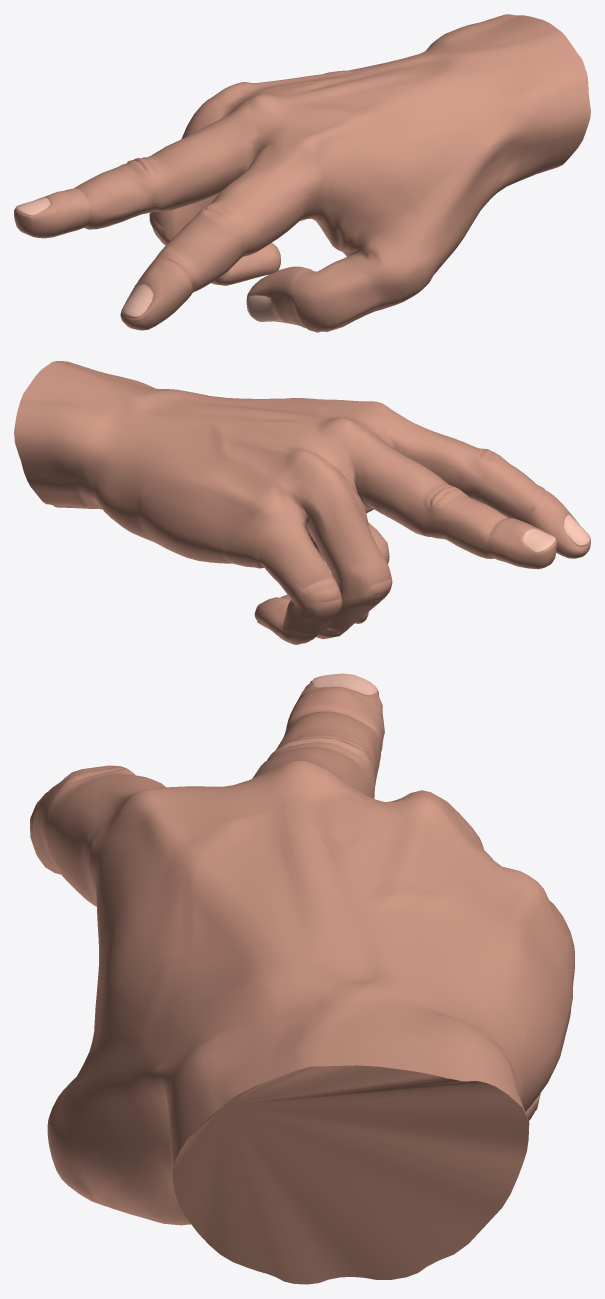
File: hand_25.obj
3 renders of one model, top to bottom at view 1: azimuth 30°, elevation 25°; view 2: azimuth 150°, elevation 25°; view 3: azimuth 270°, elevation 25°, orthographic. The views are drawn at different scales.
Visible parts, largest first — view 1: Figure_2; view 2: Figure_2; view 3: Figure_2.
Boxes of the visible parts, left/top/right/bottom form: Figure_2: left=14, top=14, right=590, bottom=332; Figure_2: left=14, top=361, right=590, bottom=644; Figure_2: left=30, top=673, right=574, bottom=1284.
Bounding box in the file's own units: 0.8946 × 0.3467 × 0.4124.
